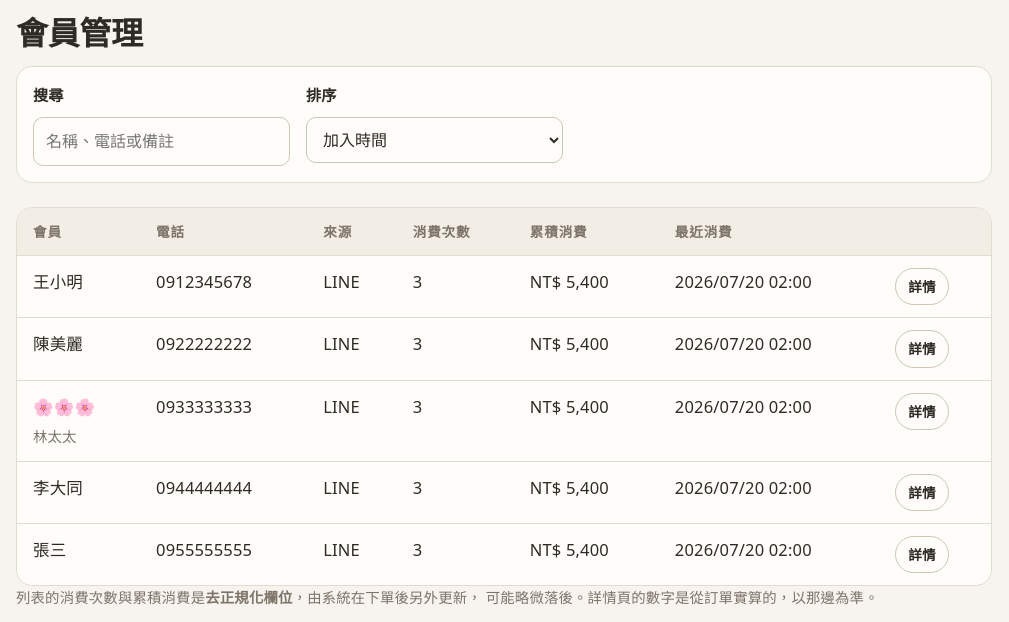
Test: AdminCustomersPage 的搜尋與排序 › 搜尋也比對備註 —— LINE 名稱是表情符號時只能靠它認人
The image size is (1009, 622).
Expected: the text "王小明" is shown, [17, 256, 140, 318]
Step 1. Type "林太太" into the field labelled "搜尋" → (162, 142), box [33, 117, 290, 166]
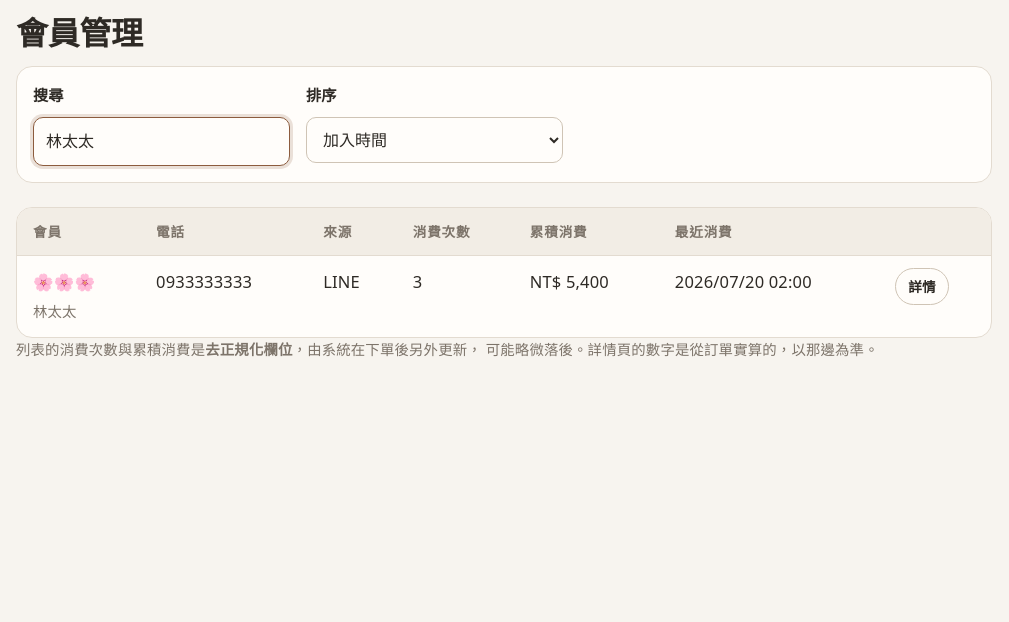
Expected: the text "🌸🌸🌸" is shown, [33, 270, 95, 293]
Expected: the text "王小明" is gone
